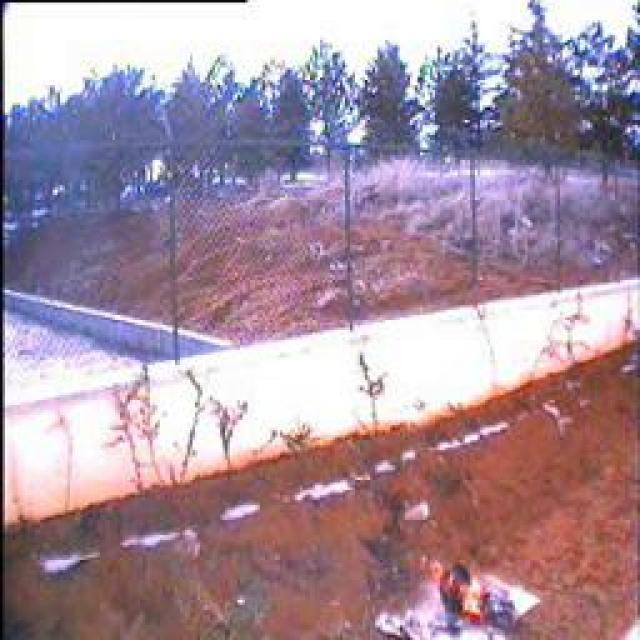Fire: (421, 563, 513, 634)
